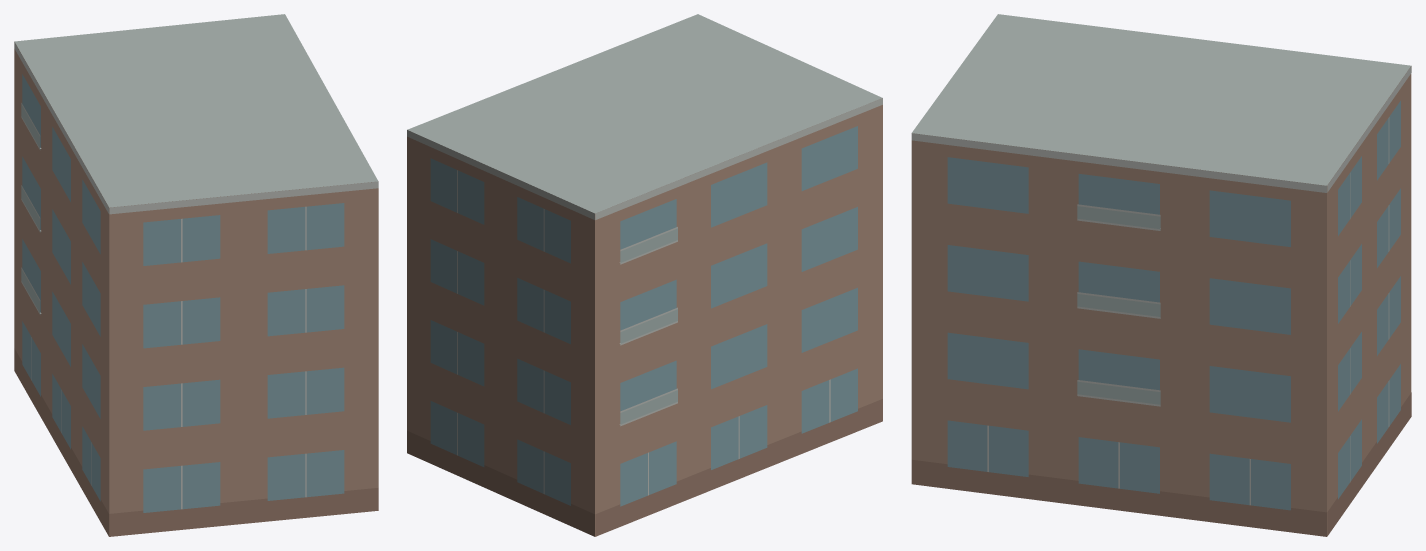
The model's file is survey-upis-32873640.glb.
3 renders of one model, left to right at view 1: azimuth 30°, elevation 25°; view 2: azimuth 150°, elevation 25°; view 3: azimuth 270°, elevation 25°, orthographic. The views are drawn at different scales.
Parts seen in each view (by area): view 1: survey-upis-32873640.tmp; view 2: survey-upis-32873640.tmp; view 3: survey-upis-32873640.tmp.
Boxes of the visible parts, x1,y1,x2,y2 form: survey-upis-32873640.tmp: (14, 14, 378, 536); survey-upis-32873640.tmp: (407, 14, 882, 536); survey-upis-32873640.tmp: (911, 14, 1411, 536).
Bounding box in the file's own units: 12.29 × 11.7 × 15.11.
